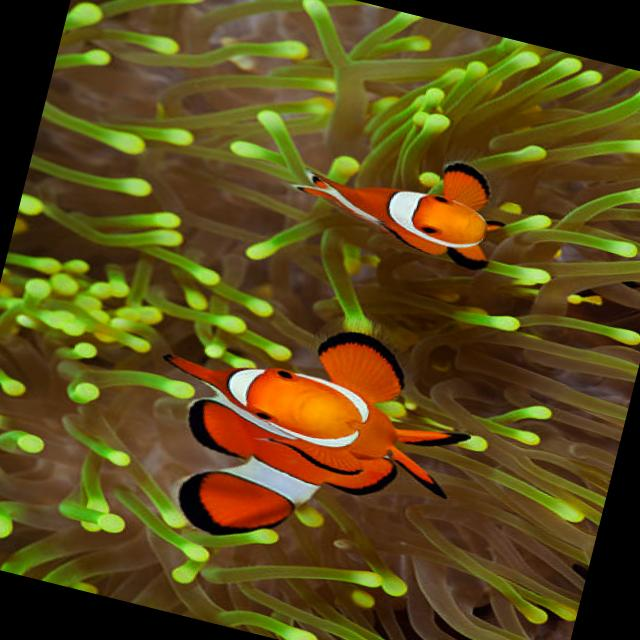ClownFish: (125, 285, 488, 592), (282, 121, 516, 272)
